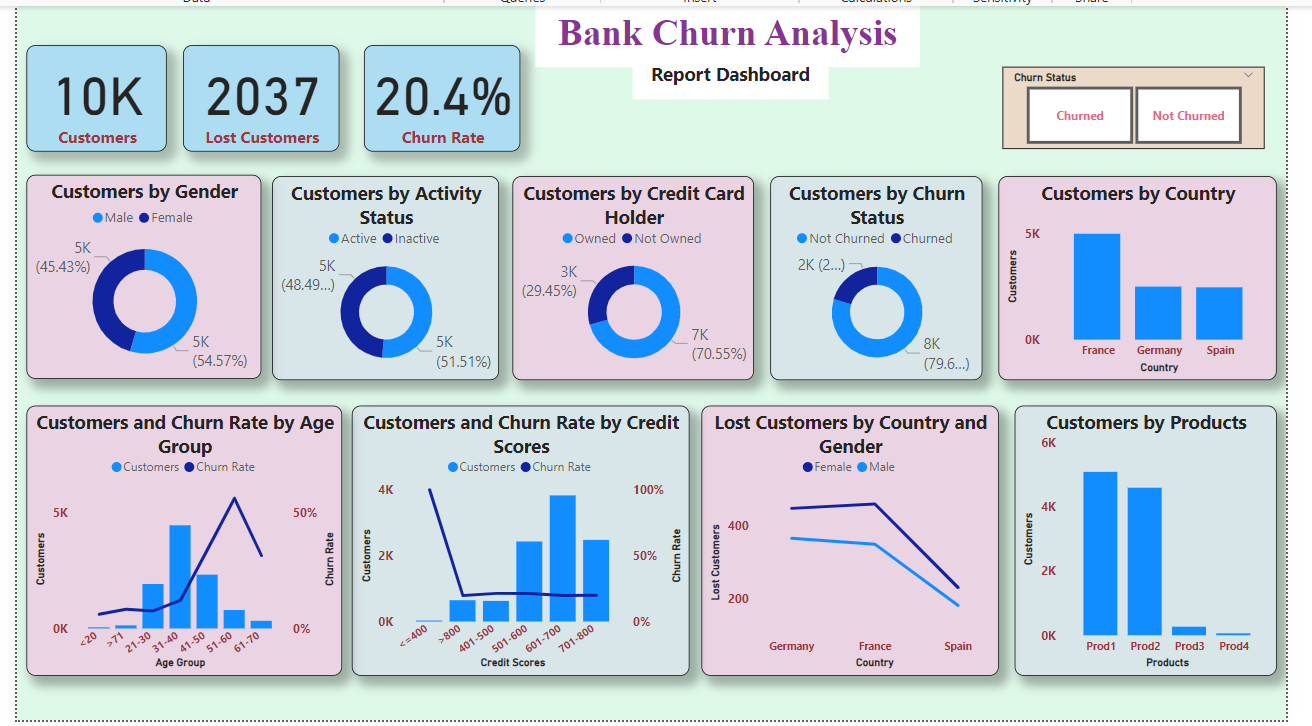

This screenshot's page, from the dashboard's own definition file:
{"tool":"powerbi","page":{"name":"Dashboard","canvas":[1280,720],"ordinal":0},"visuals":[{"type":"card","fields":{"Values":["Calculated Measures.Customers"]},"box":[9.5,39.5,141.7,107.6],"z":0},{"type":"card","fields":{"Values":["Calculated Measures.Lost Customers"]},"box":[167.5,39.5,158,107.6],"z":1000},{"type":"card","fields":{"Values":["Calculated Measures.Churn Rate"]},"box":[350.1,39.5,158,107.6],"z":2000},{"type":"donutChart","fields":{"Category":["Customer Data.Gender"],"Y":["Calculated Measures.Customers"]},"box":[9.5,170.3,237,205.7],"z":3000},{"type":"donutChart","fields":{"Y":["Calculated Measures.Customers"],"Category":["Customer Data.Activity Status"]},"box":[257.4,171.6,228.8,205.7],"z":4000},{"type":"donutChart","fields":{"Y":["Calculated Measures.Customers"],"Category":["Customer Data.Credit Card Holder"]},"box":[499.9,171.6,243.8,205.7],"z":5000},{"type":"donutChart","fields":{"Y":["Calculated Measures.Customers"],"Category":["Customer Data.Churn Status"]},"box":[760.1,171.6,213.9,205.7],"z":6000},{"type":"columnChart","fields":{"Category":["Customer Data.Country"],"Y":["Calculated Measures.Customers"]},"box":[990.3,171.6,280.6,205.7],"z":7000},{"type":"slicer","fields":{"Values":["Customer Data.Churn Status"]},"box":[994.4,61.3,264.3,83.1],"z":8000},{"type":"lineClusteredColumnComboChart","fields":{"Category":["Age Group.Age Group"],"Y":["Calculated Measures.Customers"],"Y2":["Calculated Measures.Churn Rate"]},"box":[9.5,403.2,318.7,272.4],"z":9000},{"type":"lineClusteredColumnComboChart","fields":{"Y":["Calculated Measures.Customers"],"Y2":["Calculated Measures.Churn Rate"],"Category":["Credit Score Group.Credit Scores"]},"box":[337.8,403.2,340.5,272.4],"z":10000},{"type":"lineChart","fields":{"Category":["Customer Data.Country"],"Y":["Calculated Measures.Lost Customers"],"Series":["Customer Data.Gender"]},"box":[690.6,403.2,299.7,272.4],"z":11000},{"type":"columnChart","fields":{"Category":["Customer Data.Products"],"Y":["Calculated Measures.Customers"]},"box":[1006.6,403.2,264.3,272.4],"z":12000},{"type":"textbox","box":[523.1,0,388.2,61.3],"z":13000},{"type":"textbox","box":[621.1,50.4,197.5,43.6],"z":14000}]}

Visuals, with their boxes in screenshot pixels (x1, y1, x2, y2):
card - Calculated Measures.Customers: (left=20, top=43, right=160, bottom=149)
card - Calculated Measures.Lost Customers: (left=176, top=43, right=333, bottom=149)
card - Calculated Measures.Churn Rate: (left=358, top=43, right=514, bottom=149)
donutChart - Customer Data.Gender x Calculated Measures.Customers: (left=20, top=172, right=255, bottom=376)
donutChart - Calculated Measures.Customers x Customer Data.Activity Status: (left=266, top=174, right=493, bottom=378)
donutChart - Calculated Measures.Customers x Customer Data.Credit Card Holder: (left=506, top=174, right=748, bottom=378)
donutChart - Calculated Measures.Customers x Customer Data.Churn Status: (left=764, top=174, right=977, bottom=378)
columnChart - Customer Data.Country x Calculated Measures.Customers: (left=993, top=174, right=1271, bottom=378)
slicer - Customer Data.Churn Status: (left=997, top=64, right=1259, bottom=147)
lineClusteredColumnComboChart - Age Group.Age Group x Calculated Measures.Customers: (left=20, top=403, right=336, bottom=674)
lineClusteredColumnComboChart - Calculated Measures.Customers x Calculated Measures.Churn Rate: (left=345, top=403, right=683, bottom=674)
lineChart - Customer Data.Country x Calculated Measures.Lost Customers: (left=695, top=403, right=993, bottom=674)
columnChart - Customer Data.Products x Calculated Measures.Customers: (left=1009, top=403, right=1271, bottom=674)
textbox: (left=529, top=3, right=914, bottom=64)
textbox: (left=626, top=53, right=822, bottom=97)
